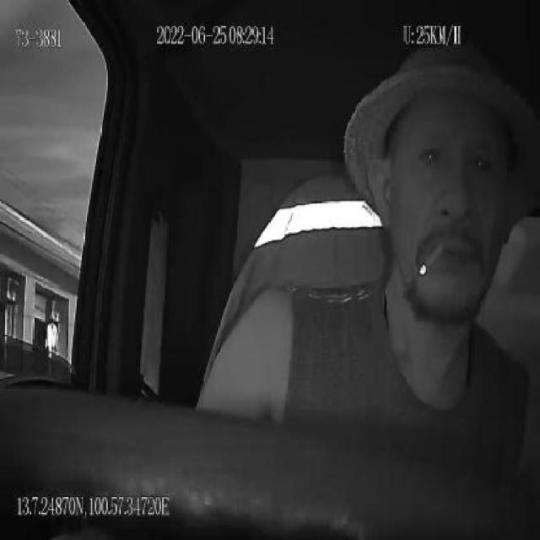smoking: (420, 240, 443, 281)
